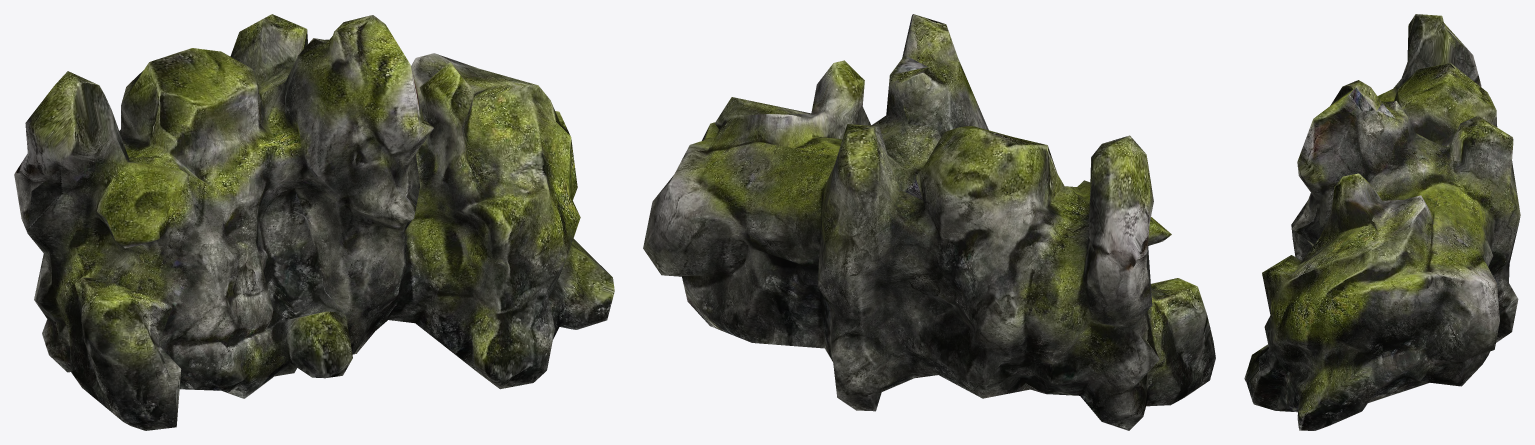
Rendered from Rock - Mountain Rocks 1-f3Yqd3N0.glb.
3 renders of one model, left to right at view 1: azimuth 30°, elevation 25°; view 2: azimuth 150°, elevation 25°; view 3: azimuth 270°, elevation 25°, orthographic. The views are drawn at different scales.
Visible parts, largest first — view 1: Mountain Rocks 1_LOD 1; view 2: Mountain Rocks 1_LOD 1; view 3: Mountain Rocks 1_LOD 1.
Part boxes in pixels (bbox=[...]): Mountain Rocks 1_LOD 1: bbox=[14, 14, 614, 430]; Mountain Rocks 1_LOD 1: bbox=[643, 14, 1215, 430]; Mountain Rocks 1_LOD 1: bbox=[1244, 14, 1520, 430].
Bounding box in the file's own units: 43.74 × 29.02 × 25.58.
Materials: 1 (1 with a texture image).
